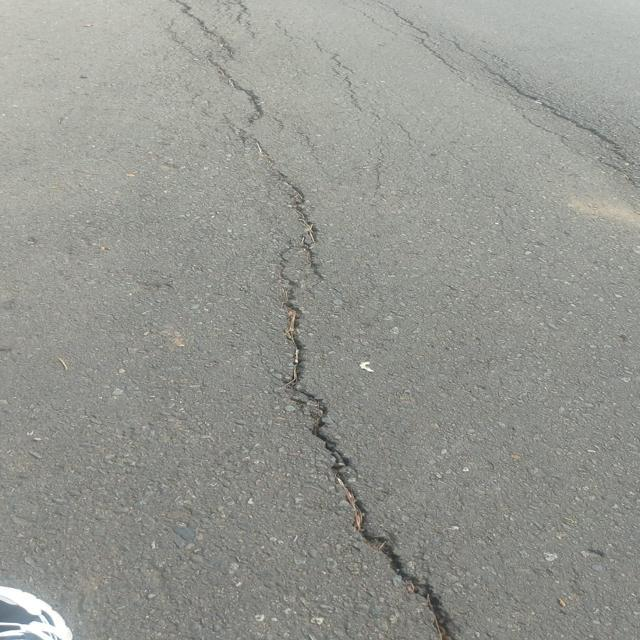Memanjang: (160, 0, 486, 640)
